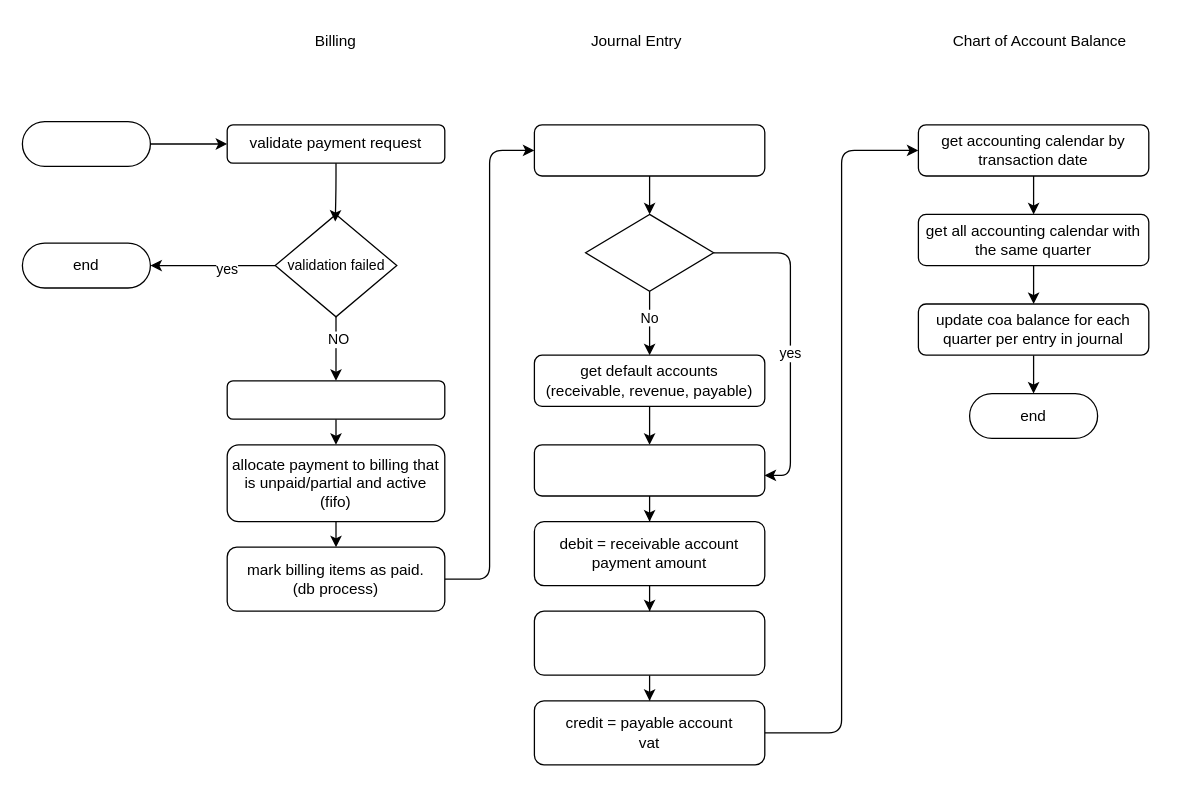
Some shapes in this 1184 by 787 pixel diagram are drawn without their labels. The box of each missing label's shape, as (x1, y1, x2, y2) in pixels:
credit = revenue account payment amount - vat: (533, 610, 765, 675)
get client defined accounts (receivable, revenue): (533, 124, 765, 176)
is defined?: (584, 213, 714, 291)
record to journal entry: (533, 444, 765, 496)
save payment: (226, 380, 445, 419)
start: (21, 120, 150, 166)
